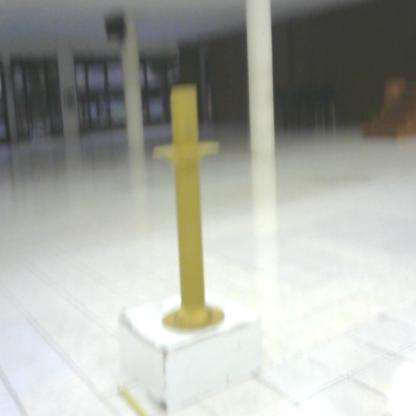pole: (145, 79, 238, 342)
